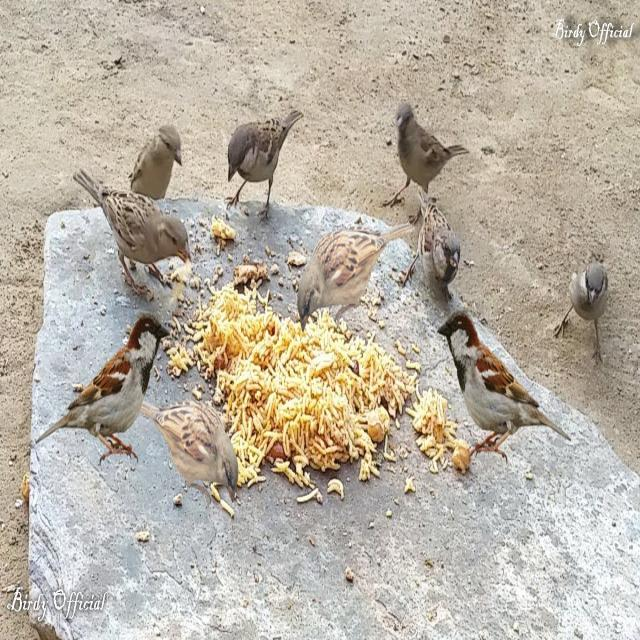bird: (46, 310, 176, 468), (74, 166, 194, 298), (296, 222, 417, 331), (224, 103, 302, 220), (387, 99, 465, 207), (552, 248, 609, 378), (405, 188, 468, 304)
